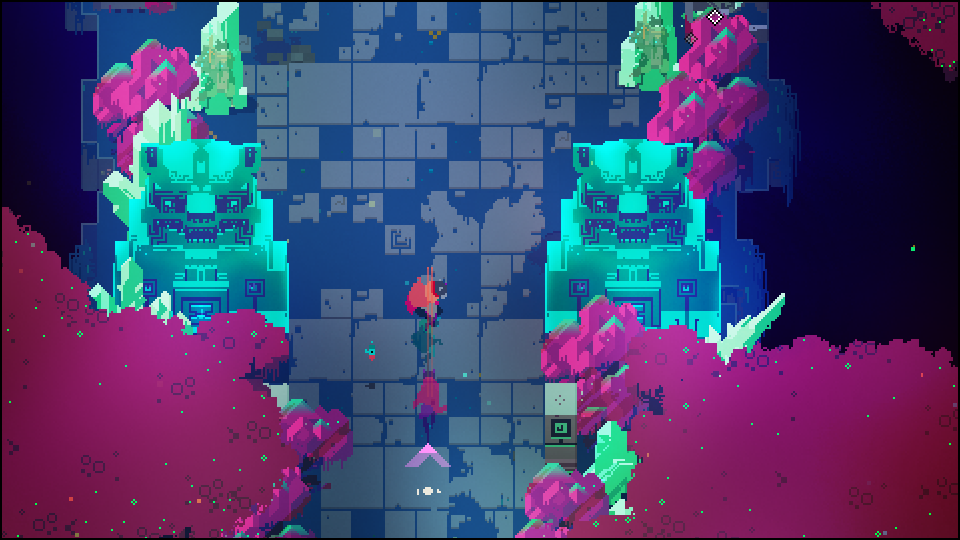player: (405, 274, 455, 329)
